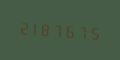eight: (41, 18, 52, 39)
five: (89, 22, 100, 42)
one: (29, 17, 40, 38)
seven: (53, 19, 64, 40), (77, 21, 88, 41)
six: (65, 20, 76, 41)
two: (17, 17, 28, 37)
